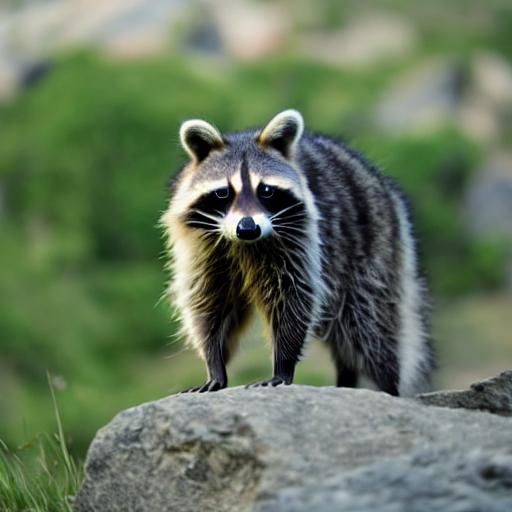raccoon: (144, 103, 455, 398)
